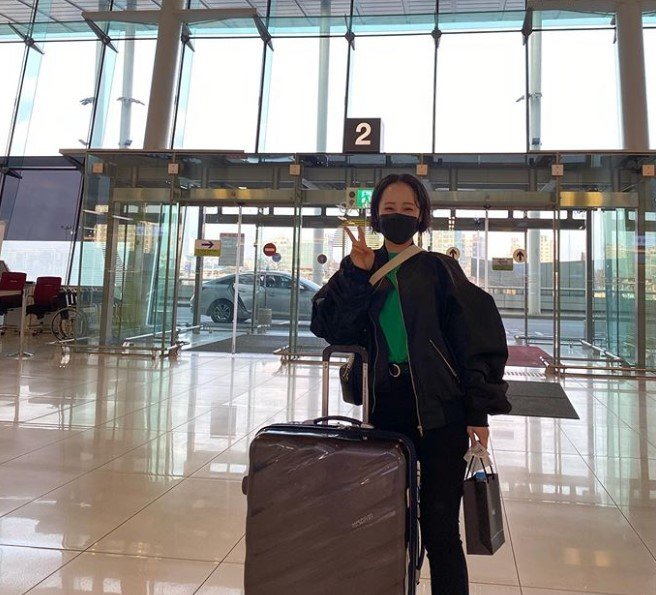face_with_mask: (375, 182, 422, 243)
